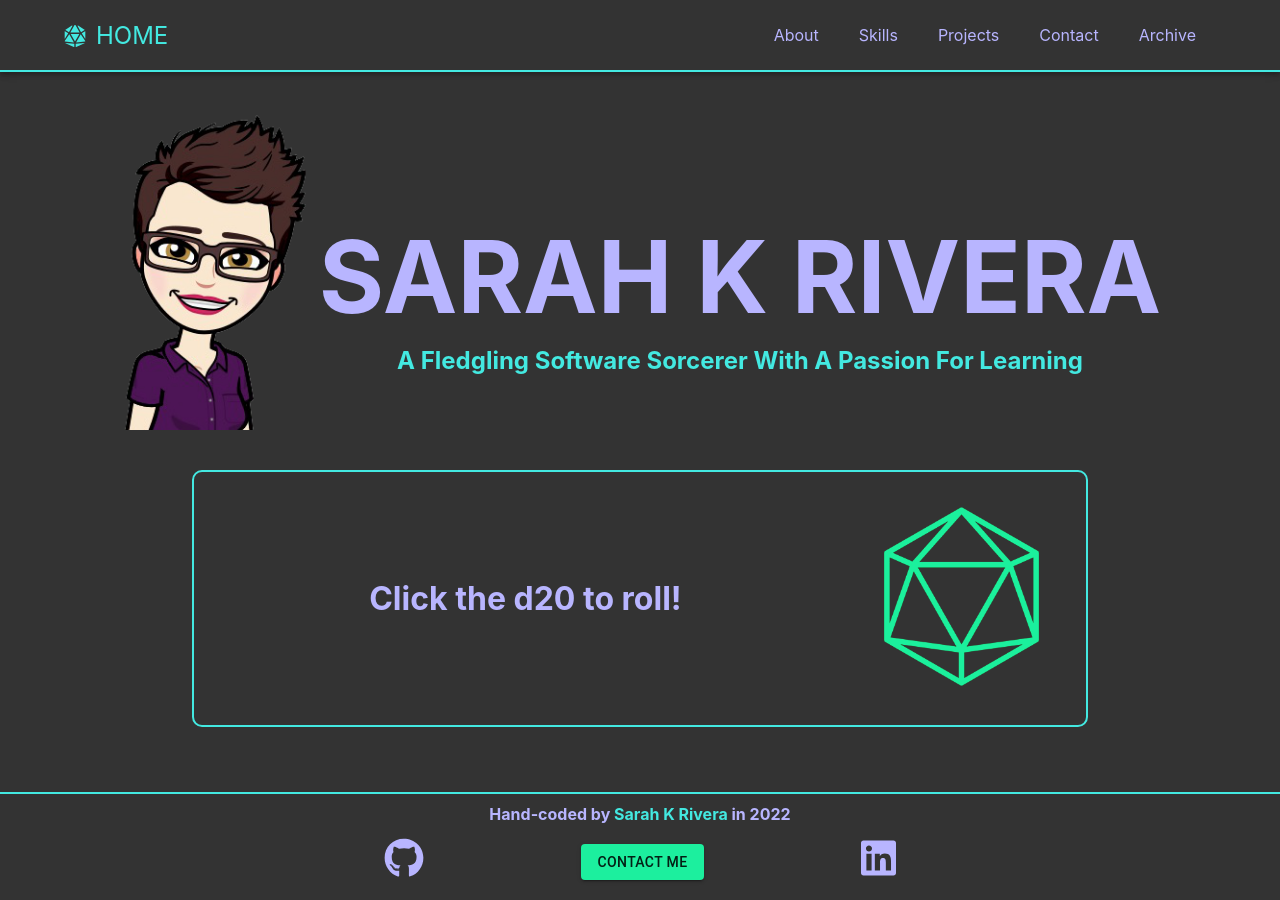
it: Home Page › d20 roller tests › roll tests › should roll 1
Click the element with test id "d20": {"x": 962, "y": 599} [847,482,1076,715]
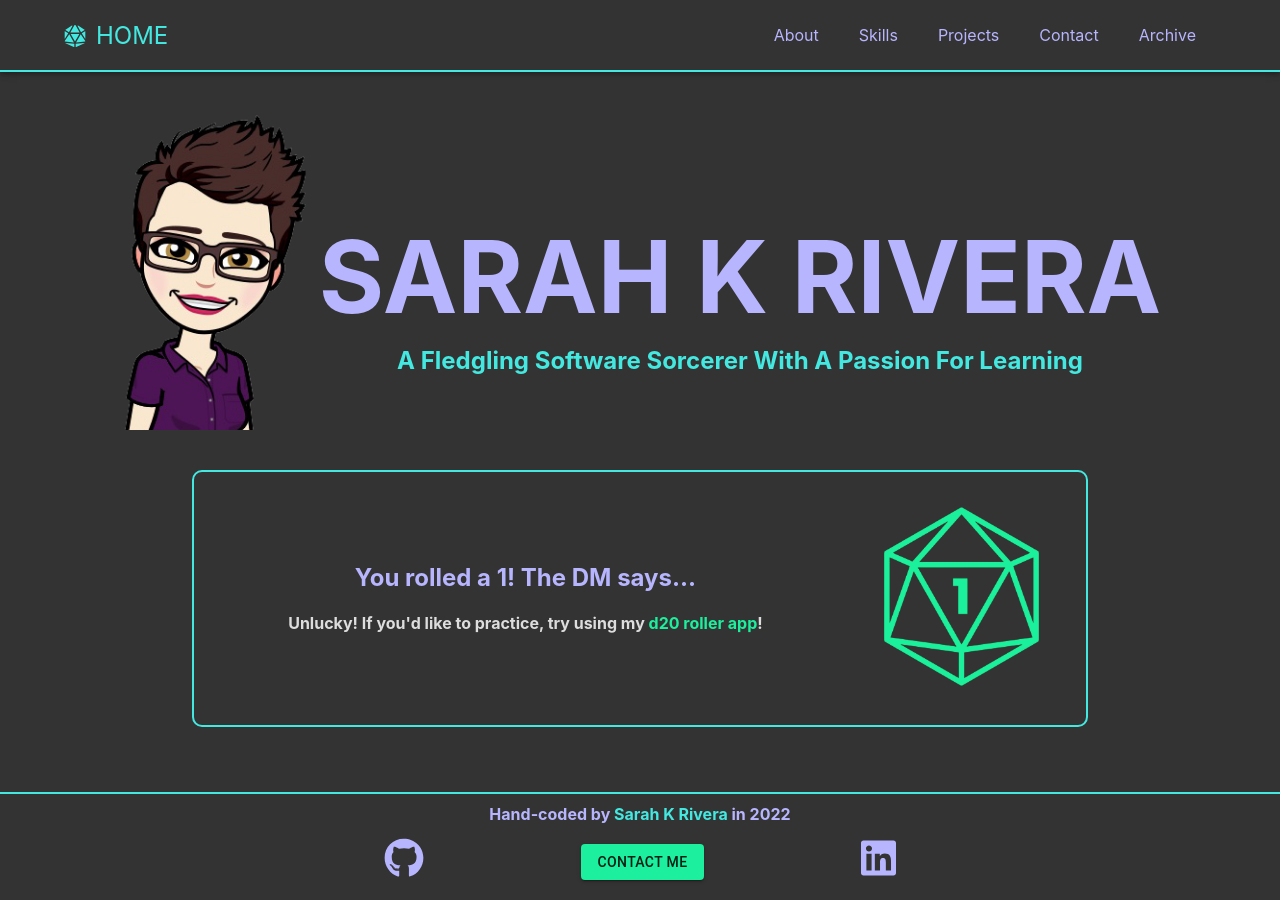
Now the heading "Unlucky" reads "Unlucky! If you'd like to practice, try using my d20 roller app !", box [288,613,645,633]
